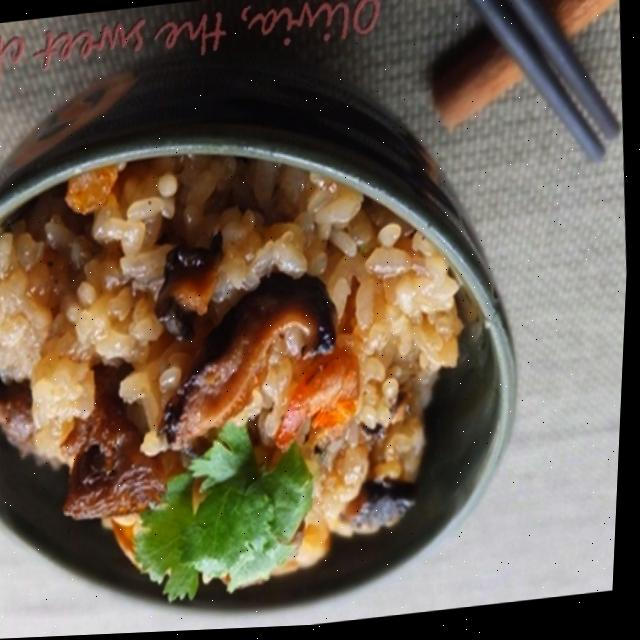米饭主食: (0, 64, 559, 640)
